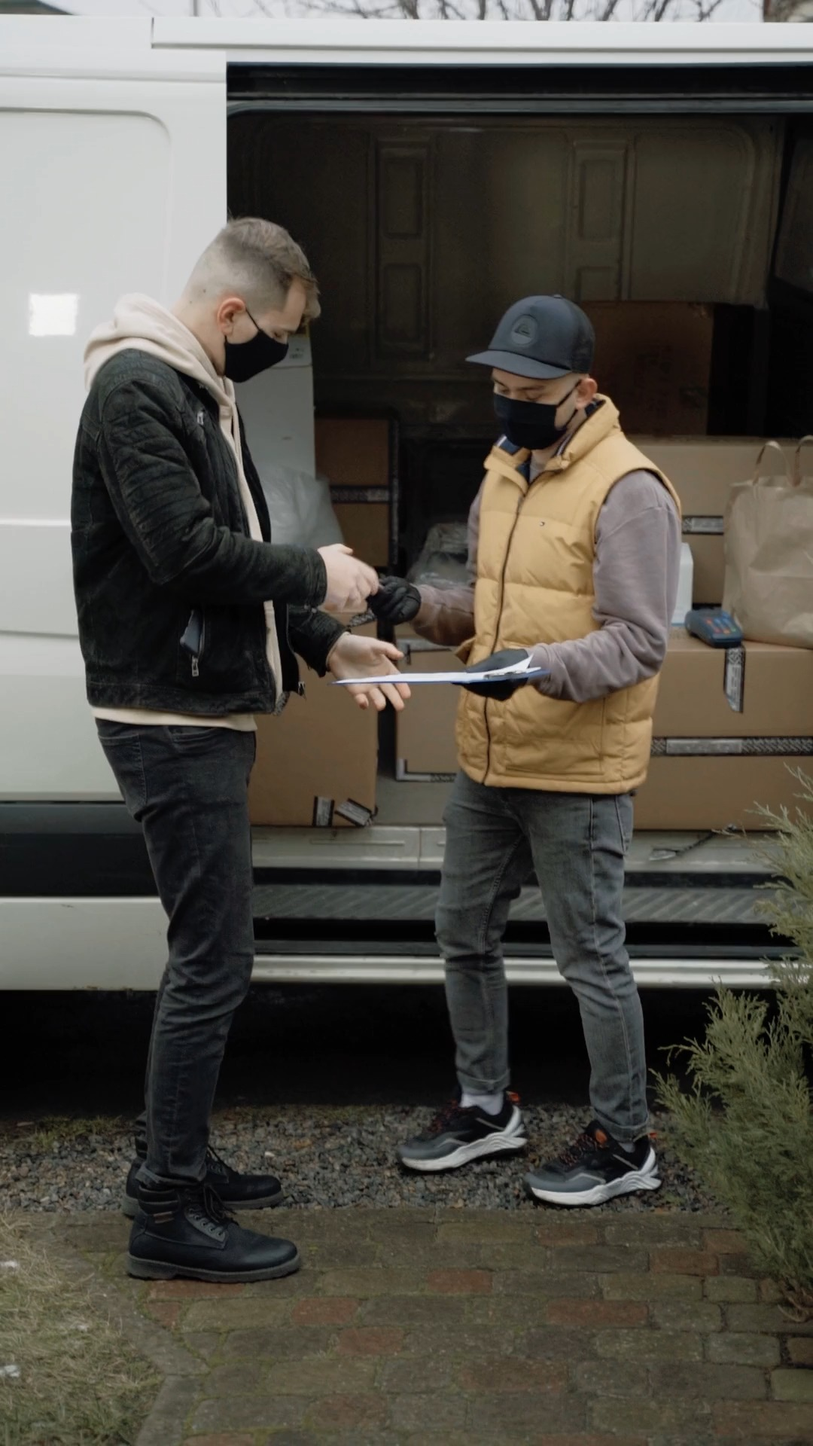No-gloves: (284, 495, 401, 611), (307, 633, 427, 733)
gloves: (450, 634, 534, 708), (369, 568, 419, 633)
